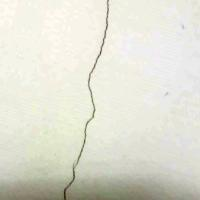crack: (58, 0, 120, 199)
